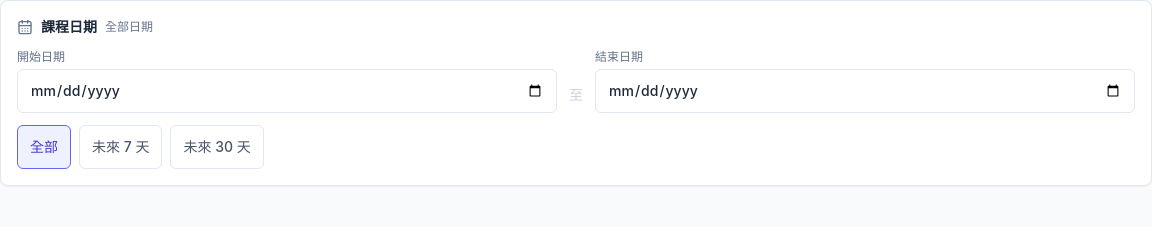
DateRangeFilter › normalizes a reversed end date instead of keeping an invalid range
Type "2026-08-20" into the date field labelled "開始日期" at (287, 91), box [17,69,557,113]
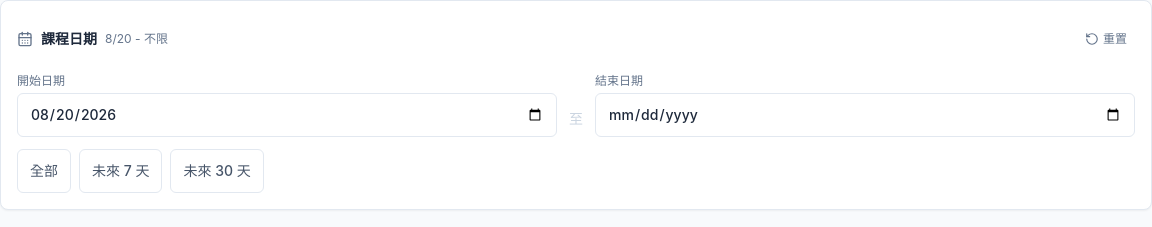
Type "2026-08-10" into the date field labelled "結束日期" at (865, 115), box [595,93,1135,137]
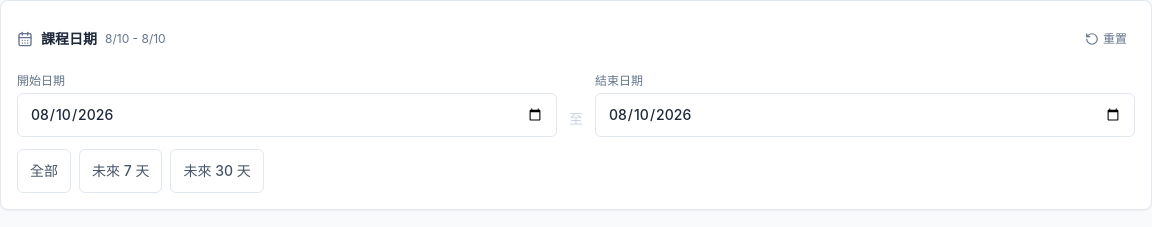
expect the date field labelled "開始日期" holds "2026-08-10": met, box [17,93,557,137]
